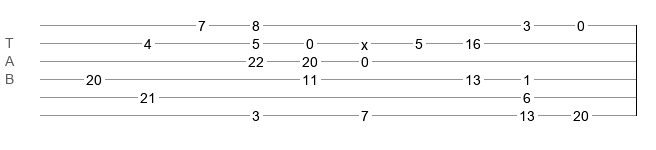0: (306, 36, 314, 46), (361, 54, 369, 64), (577, 18, 585, 28)
1: (523, 72, 531, 82)
11: (302, 72, 318, 82)
13: (465, 72, 481, 82), (519, 108, 535, 118)
16: (465, 36, 481, 46)
20: (86, 72, 102, 82), (302, 54, 318, 64), (573, 108, 589, 118)
21: (140, 90, 156, 100)
22: (248, 54, 264, 64)
3: (252, 108, 260, 118), (523, 18, 531, 28)
4: (144, 36, 152, 46)
5: (252, 36, 260, 46), (415, 36, 423, 46)
6: (523, 90, 531, 100)
7: (198, 18, 206, 28), (361, 108, 369, 118)
8: (252, 18, 260, 28)
x: (361, 37, 368, 45)
